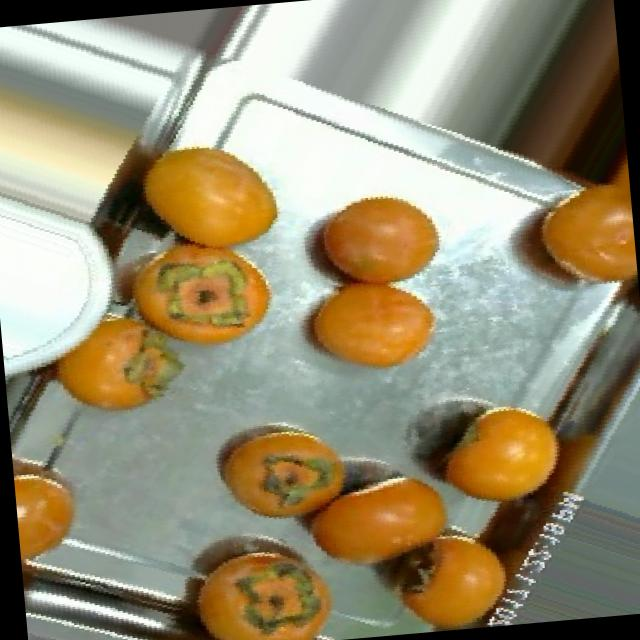Fruit: (96, 116, 304, 276), (88, 214, 296, 374), (272, 448, 478, 604), (274, 168, 466, 313), (396, 384, 584, 529), (25, 289, 197, 442), (276, 259, 458, 399), (194, 401, 368, 545), (487, 164, 640, 324), (157, 516, 353, 640), (11, 449, 98, 571)
